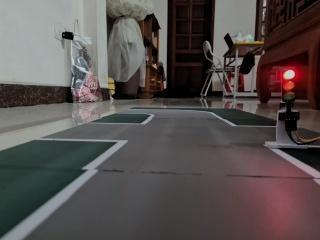red: (275, 62, 305, 116)
